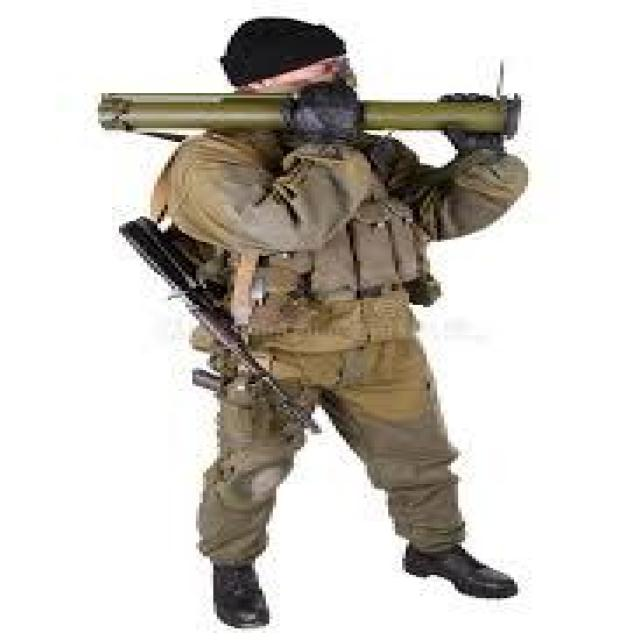bazooka: (87, 51, 550, 154)
